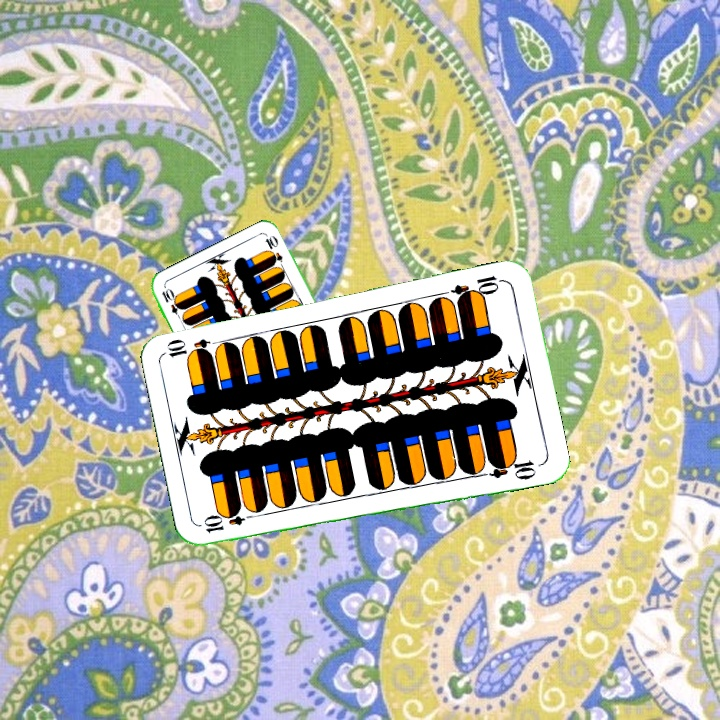E10: (448, 271, 507, 304), (199, 507, 259, 535), (158, 285, 185, 323)
